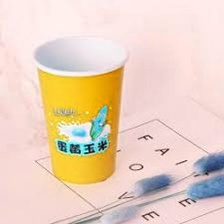paper_cup: (27, 28, 133, 188)
